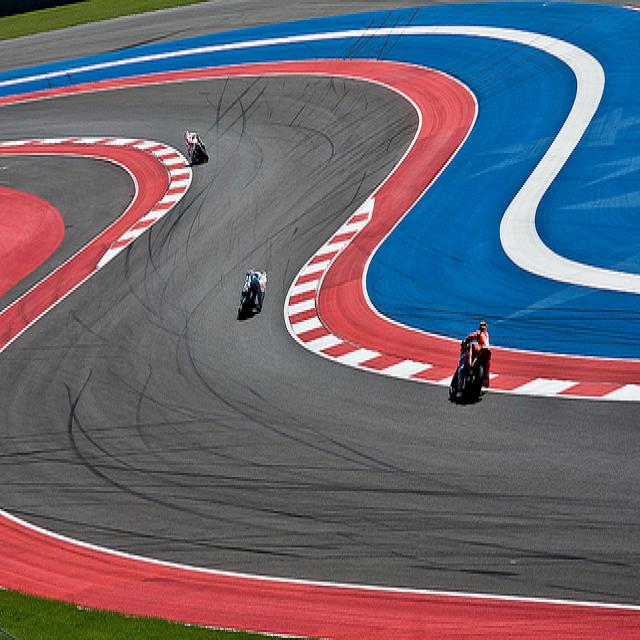motor: (449, 341, 492, 402), (237, 268, 260, 319), (190, 137, 208, 166)
